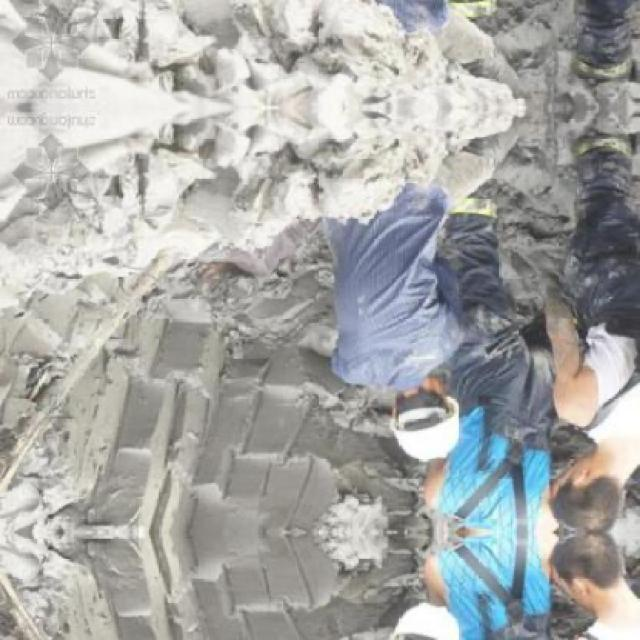con casco: (360, 348, 478, 484)
sin casco: (562, 432, 640, 538)
